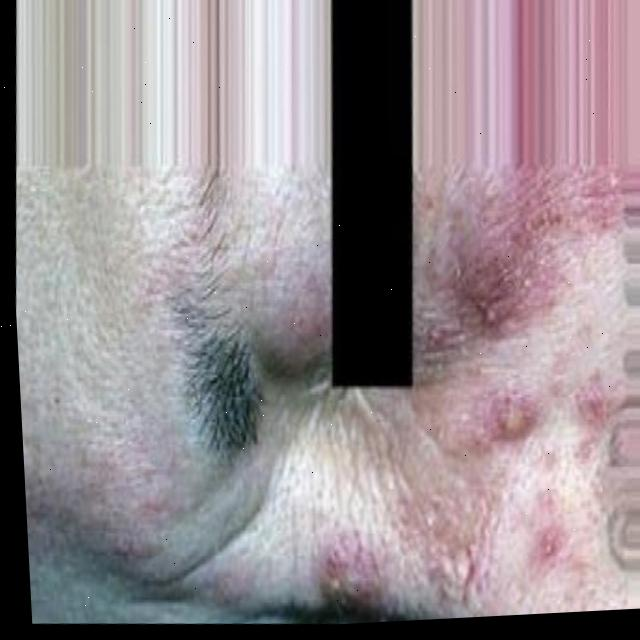Rosacea: (445, 169, 572, 339), (298, 532, 382, 602), (529, 499, 578, 557), (495, 384, 545, 428)
